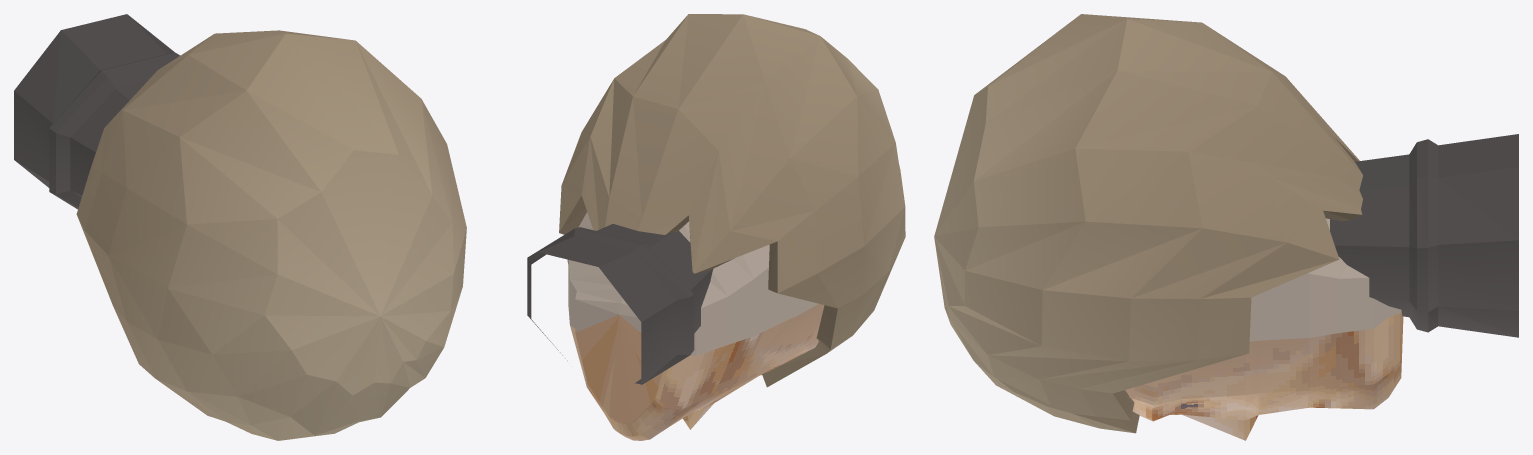
The model's file is luke_head.gltf.
The picture shows the model from 3 angles, left to right: view 1: azimuth 30°, elevation 25°; view 2: azimuth 150°, elevation 25°; view 3: azimuth 270°, elevation 25°; orthographic projection. The views are drawn at different scales.
Parts seen in each view (by area): view 1: bone_06; view 2: bone_06; view 3: bone_06.
Boxes of the visible parts, x1=… form: bone_06: x1=14, y1=14, x2=466, y2=440; bone_06: x1=527, y1=14, x2=905, y2=440; bone_06: x1=934, y1=14, x2=1518, y2=440.
Bounding box in the file's own units: 14.51 × 18.49 × 23.22.
2 materials, 1 textured.
